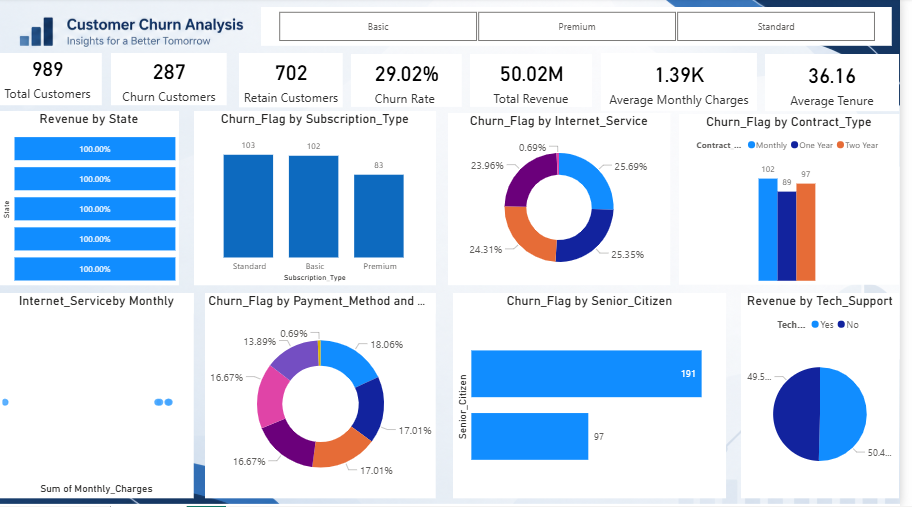

What the dashboard file says about the page in this screenshot:
{"tool":"powerbi","page":{"name":"Page 1","canvas":[1280,720],"ordinal":0},"visuals":[{"type":"card","fields":{"Values":["Dax Measure.Total Customers"]},"box":[0,78,150.2,73.7],"z":0},{"type":"card","fields":{"Values":["Dax Measure.Churn Customers"]},"box":[163,78,164.4,73.7],"z":1000},{"type":"card","fields":{"Values":["Dax Measure.Retain Customers"]},"box":[344.4,78,147.4,76.5],"z":2000},{"type":"card","fields":{"Values":["Dax Measure.Churn Rate"]},"box":[503.1,79.4,157.3,75.1],"z":3000},{"type":"card","fields":{"Values":["Dax Measure.Total Revenue"]},"box":[671.8,79.4,172.9,75.1],"z":4000},{"type":"card","fields":{"Values":["Dax Measure.Average Monthly Charges"]},"box":[857.5,78,221.1,82.2],"z":5000},{"type":"card","fields":{"Values":["Dax Measure.Average Tenure"]},"box":[1089.9,79.4,189.9,80.8],"z":6000},{"type":"clusteredColumnChart","title":"Churn_Flag by Contract_Type","fields":{"Series":["Clean_Churn_Data.Contract_Type"],"Y":["Sum(Clean_Churn_Data.Churn_Flag)"]},"box":[968,164.4,311.8,242.4],"z":7000},{"type":"columnChart","title":"Churn_Flag by Subscription_Type","fields":{"Category":["Clean_Churn_Data.Subscription_Type"],"Y":["Sum(Clean_Churn_Data.Churn_Flag)"]},"box":[280.6,160.2,343,246.6],"z":8000},{"type":"scatterChart","title":"Internet_Serviceby Monthly","fields":{"X":["Sum(Clean_Churn_Data.Monthly_Charges)"],"Category":["Clean_Churn_Data.Internet_Service"]},"box":[4.3,418.1,276.4,290.6],"z":9000},{"type":"hundredPercentStackedBarChart","title":"Revenue by State","fields":{"Category":["Clean_Churn_Data.State"],"Y":["Dax Measure.Total Revenue"]},"box":[4.3,160.2,255.1,246.6],"z":10000},{"type":"donutChart","title":"Churn_Flag by Payment_Method and Payment_Method","fields":{"Series":["Clean_Churn_Data.Payment_Method"],"Category":["Clean_Churn_Data.Payment_Method"],"Y":["Sum(Clean_Churn_Data.Churn_Flag)"]},"box":[296.2,418.1,327.4,290.6],"z":11000},{"type":"donutChart","title":"Churn_Flag by Internet_Service","fields":{"Category":["Clean_Churn_Data.Internet_Service"],"Y":["Sum(Clean_Churn_Data.Churn_Flag)"]},"box":[640.6,163,314.6,243.8],"z":12000},{"type":"barChart","title":"Churn_Flag by Senior_Citizen","fields":{"Category":["Clean_Churn_Data.Senior_Citizen"],"Y":["Sum(Clean_Churn_Data.Churn_Flag)"]},"box":[647.7,418.1,386.9,290.6],"z":13000},{"type":"slicer","fields":{"Values":["Clean_Churn_Data.Subscription_Type"]},"box":[375.6,12.8,894.3,55.3],"z":14000},{"type":"pieChart","title":" Revenue by Tech_Support","fields":{"Y":["Dax Measure.Total Revenue"],"Category":["Clean_Churn_Data.Tech_Support"]},"box":[1055.9,418.1,223.9,290.6],"z":15000}]}

Visuals, with their boxes in screenshot pixels (x1, y1, x2, y2), scaled from the page's 1280x720 canvas onto the 912x507 screenshot:
card - Dax Measure.Total Customers: (0,55,107,107)
card - Dax Measure.Churn Customers: (116,55,233,107)
card - Dax Measure.Retain Customers: (245,55,350,109)
card - Dax Measure.Churn Rate: (358,56,471,109)
card - Dax Measure.Total Revenue: (479,56,602,109)
card - Dax Measure.Average Monthly Charges: (611,55,769,113)
card - Dax Measure.Average Tenure: (777,56,911,113)
"Churn_Flag by Contract_Type" clusteredColumnChart: (690,116,911,286)
"Churn_Flag by Subscription_Type" columnChart: (200,113,444,286)
"Internet_Serviceby Monthly" scatterChart: (3,294,200,499)
"Revenue by State" hundredPercentStackedBarChart: (3,113,185,286)
"Churn_Flag by Payment_Method and Payment_Method" donutChart: (211,294,444,499)
"Churn_Flag by Internet_Service" donutChart: (456,115,681,286)
"Churn_Flag by Senior_Citizen" barChart: (461,294,737,499)
slicer - Clean_Churn_Data.Subscription_Type: (268,9,905,48)
" Revenue by Tech_Support" pieChart: (752,294,911,499)
